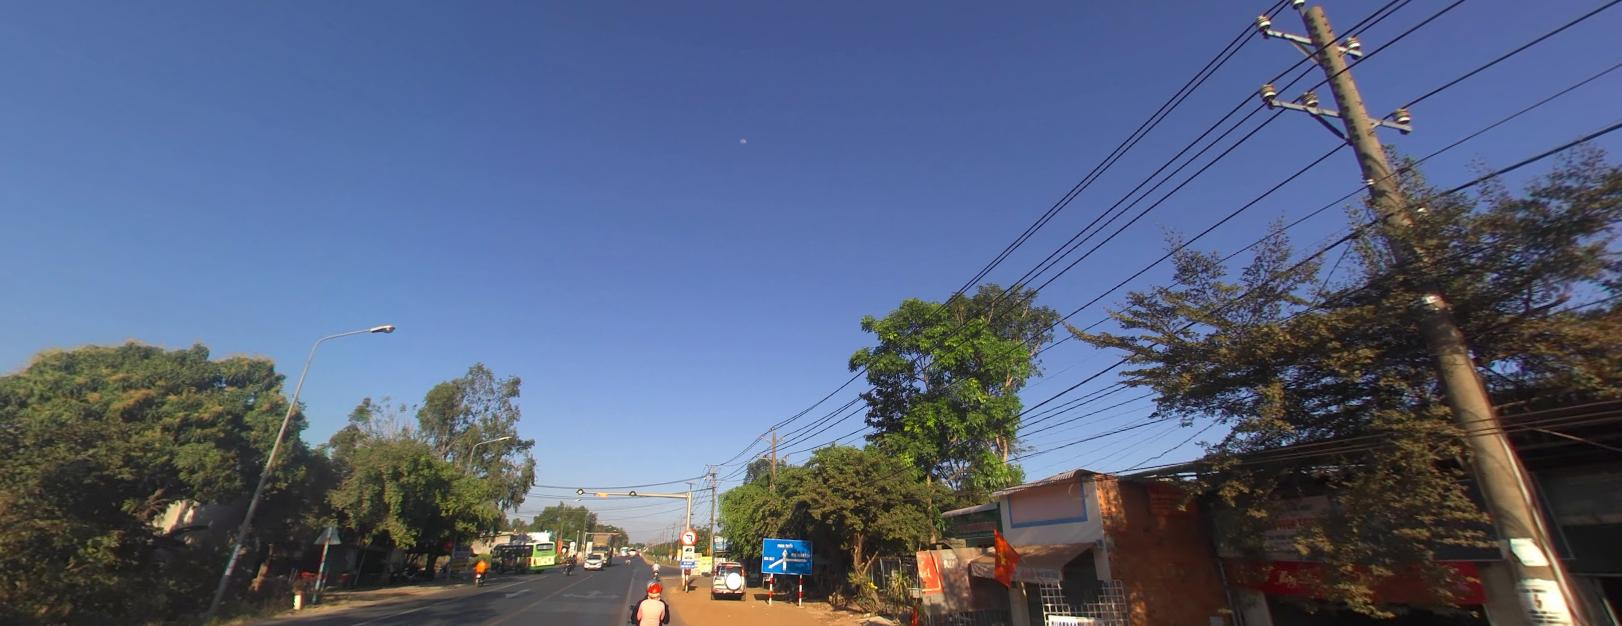Cam re: (680, 529, 696, 545)
